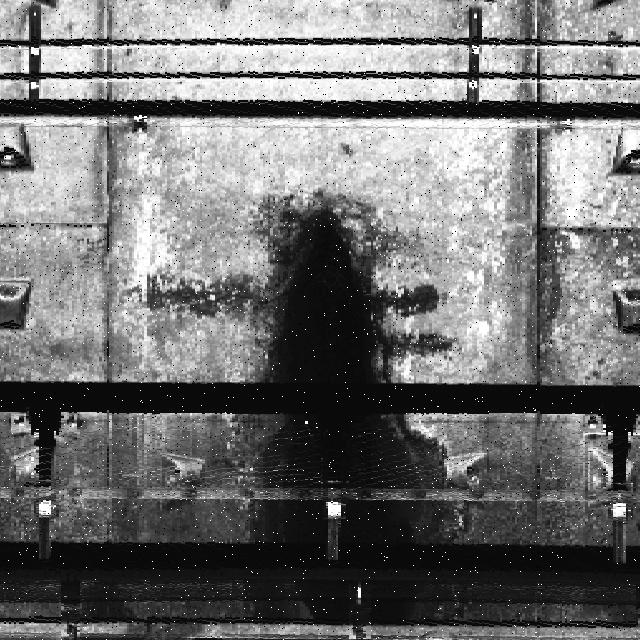leakage: (194, 176, 483, 639)
